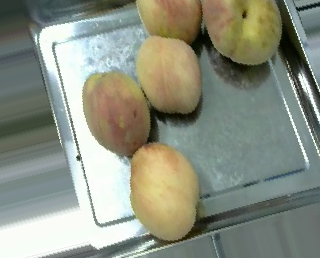Peach: (129, 142, 198, 241), (81, 71, 150, 157), (135, 36, 202, 116), (202, 0, 281, 65)
